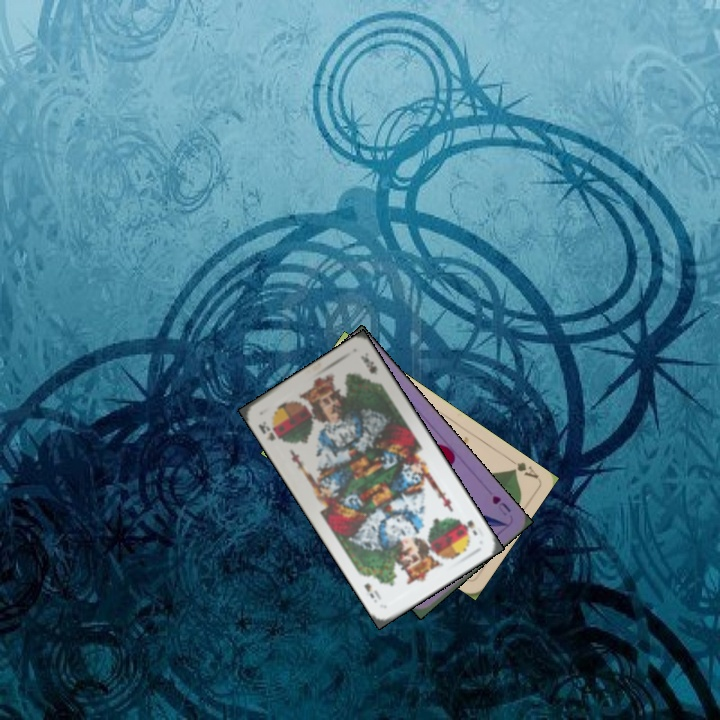GA: (504, 453, 541, 481)
HU: (488, 491, 513, 518)
SK: (254, 417, 278, 443), (460, 516, 480, 538)
